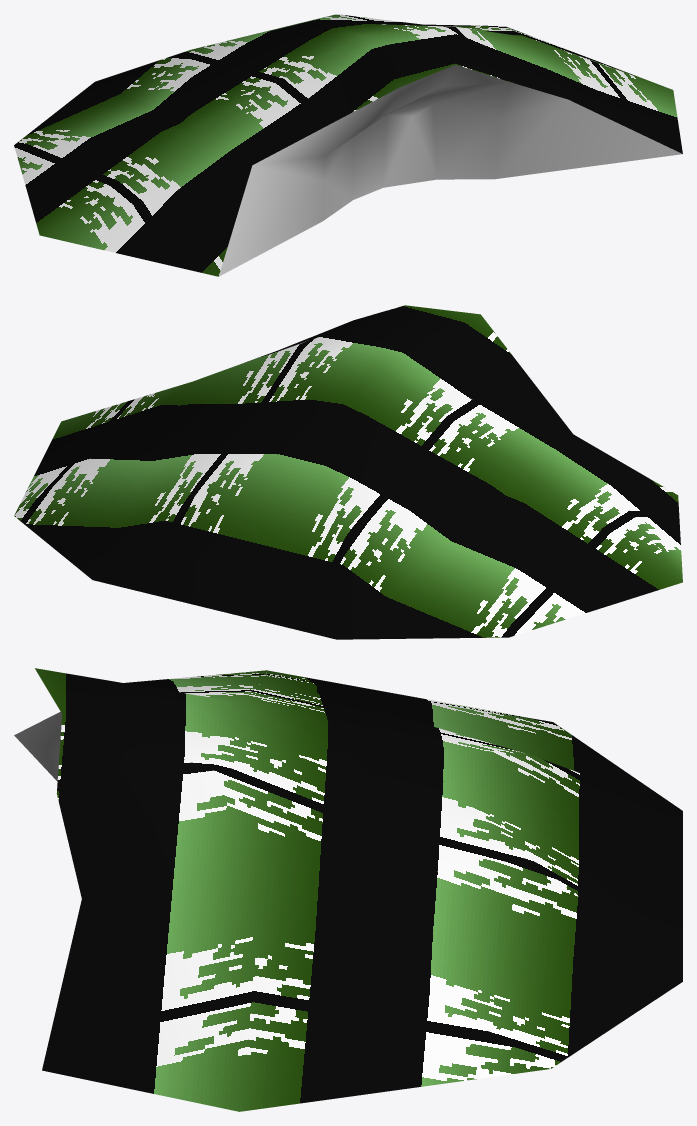
File: Hill.fbx
The picture shows the model from 3 angles, top to bottom: view 1: azimuth 30°, elevation 25°; view 2: azimuth 150°, elevation 25°; view 3: azimuth 270°, elevation 25°; orthographic projection. The views are drawn at different scales.
Visible parts, largest first — view 1: Hill; view 2: Hill; view 3: Hill.
Part boxes in pixels (x1=…): Hill: x1=14, y1=14, x2=682, y2=276; Hill: x1=14, y1=305, x2=682, y2=639; Hill: x1=14, y1=668, x2=682, y2=1111.
Bounding box in the file's own units: 19.08 × 4.04 × 12.21.
